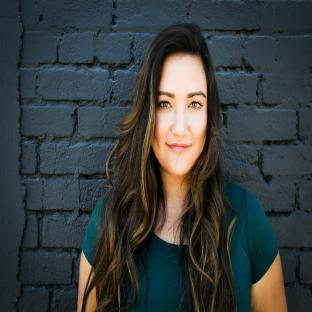Human: (77, 24, 287, 312)
